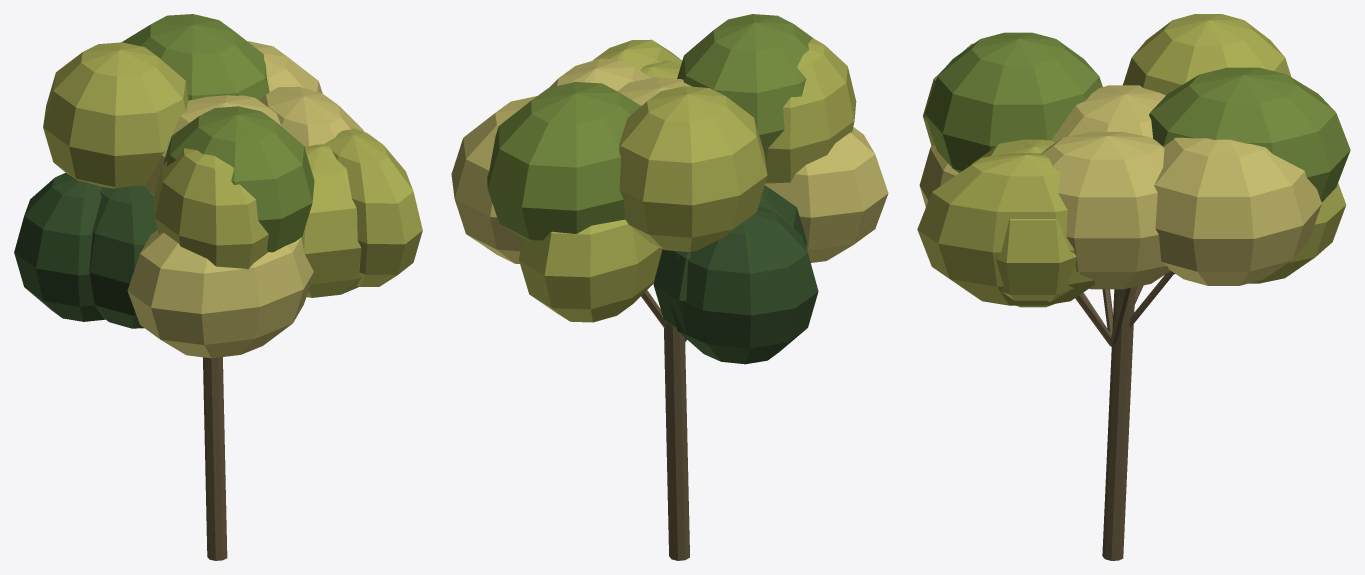
Rendered from Forest_BacklitTree_08.obj.
3 views of the same model, side by side, from view 1: azimuth 30°, elevation 25°; view 2: azimuth 150°, elevation 25°; view 3: azimuth 270°, elevation 25° (orthographic). The views are drawn at different scales.
Parts seen in each view (by area): view 1: Forest_BacklitTree_08; view 2: Forest_BacklitTree_08; view 3: Forest_BacklitTree_08.
Boxes of the visible parts, x1,y1,x2,y2 form: Forest_BacklitTree_08: (14,14,422,560); Forest_BacklitTree_08: (451,14,888,560); Forest_BacklitTree_08: (917,14,1350,560).
Bounding box in the file's own units: 5.86 × 8.87 × 6.83.
1 material, 1 textured.
